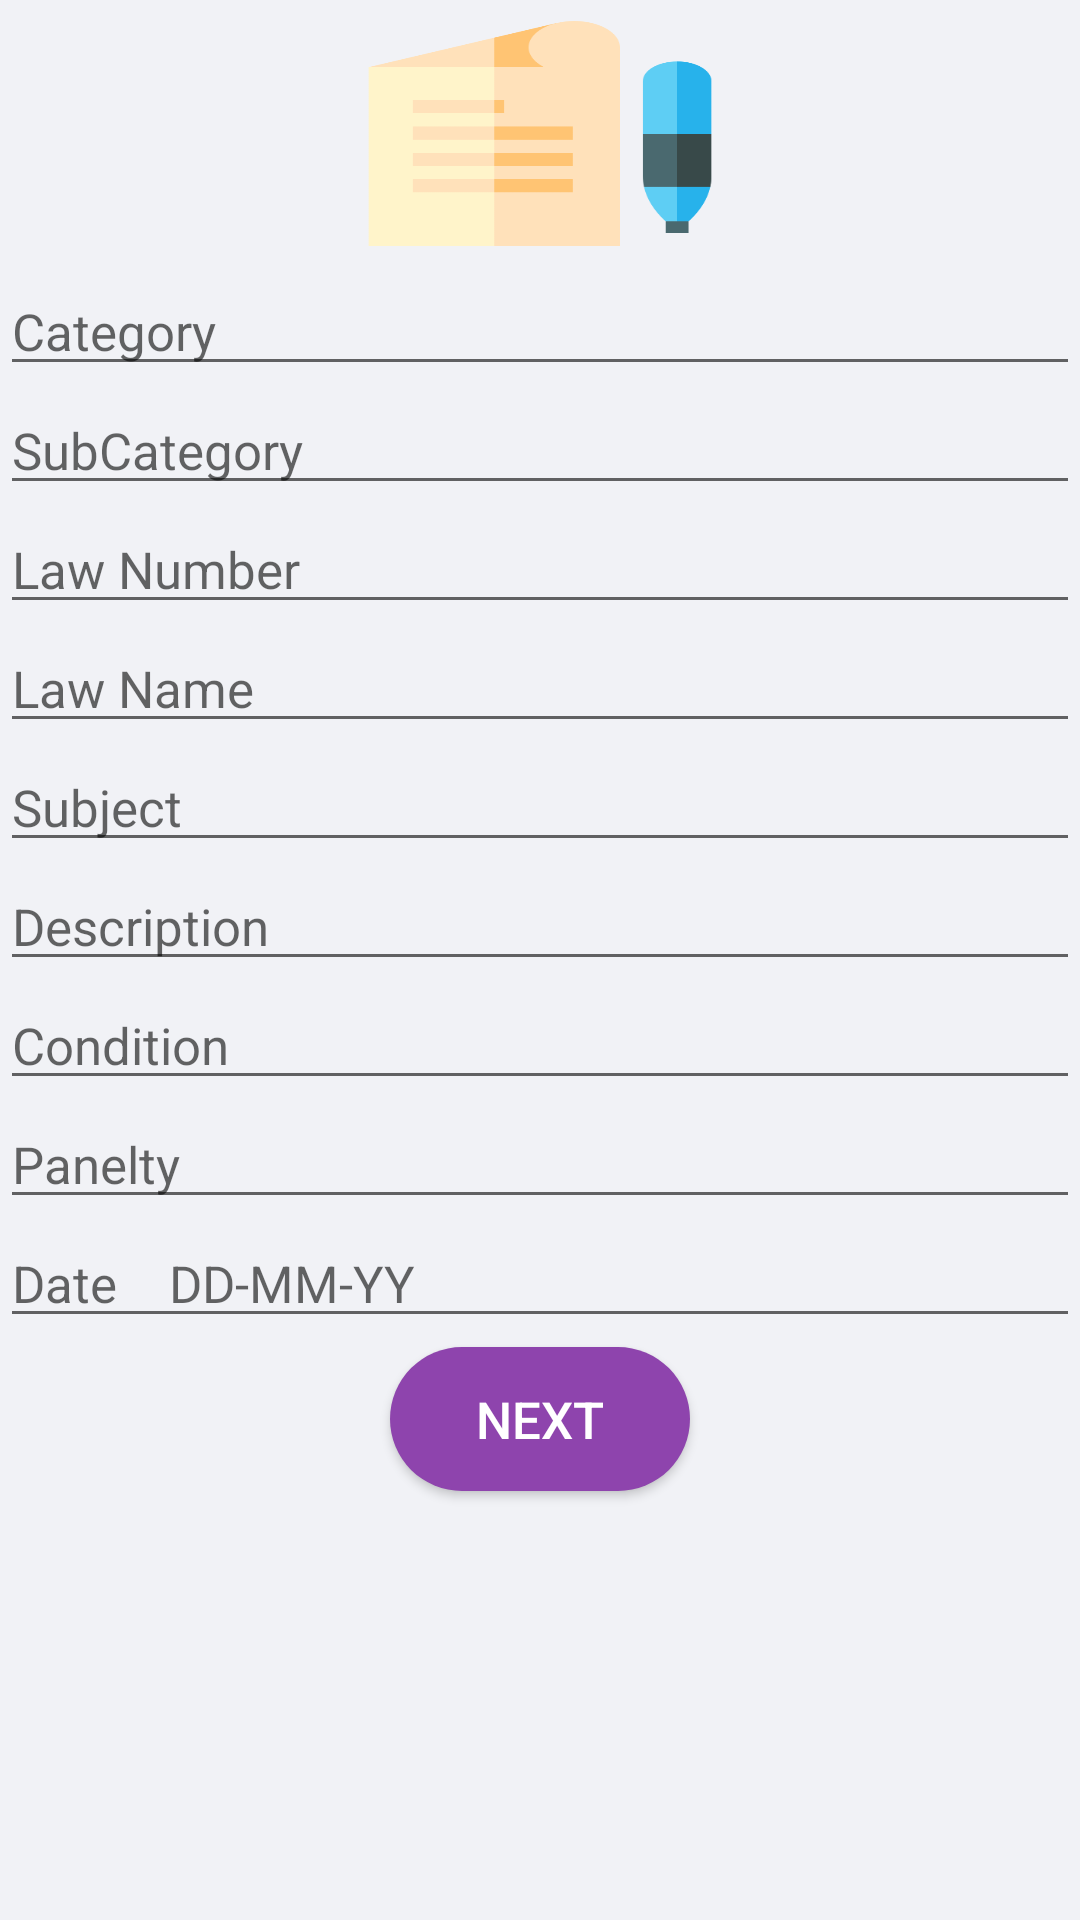

Icons on this 1080 x 1920 Android screen, each with the point to tap as (x,y):
insert data: (540,133)
